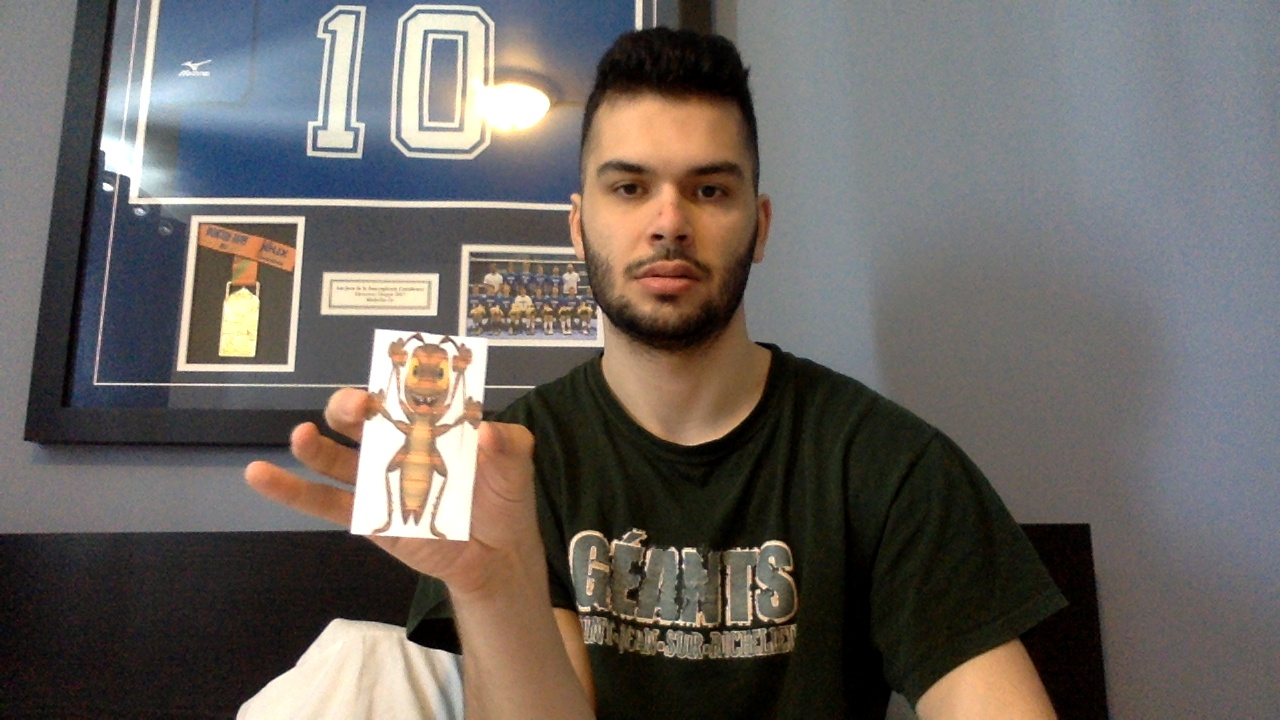Angry: (359, 329, 484, 540)
